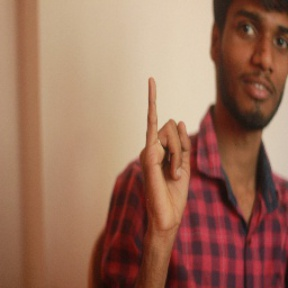I: (136, 76, 195, 226)
